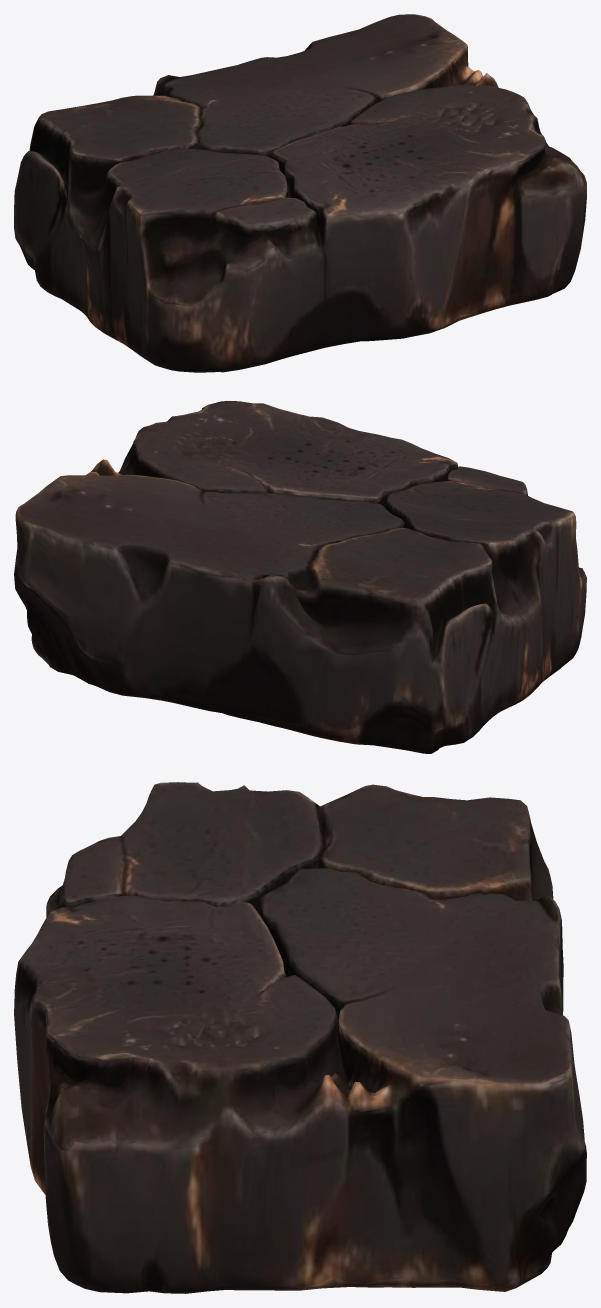
The model's file is roca2.glb.
3 views of the same model, one above another, from view 1: azimuth 30°, elevation 25°; view 2: azimuth 150°, elevation 25°; view 3: azimuth 270°, elevation 25° (orthographic). The views are drawn at different scales.
Parts seen in each view (by area): view 1: geometry_0; view 2: geometry_0; view 3: geometry_0.
Part boxes in pixels (bbox=[...]): geometry_0: bbox=[14, 14, 586, 372]; geometry_0: bbox=[14, 401, 586, 753]; geometry_0: bbox=[14, 782, 586, 1293].
Bounding box in the file's own units: 1 × 0.35 × 0.8.
1 material, 1 textured.
